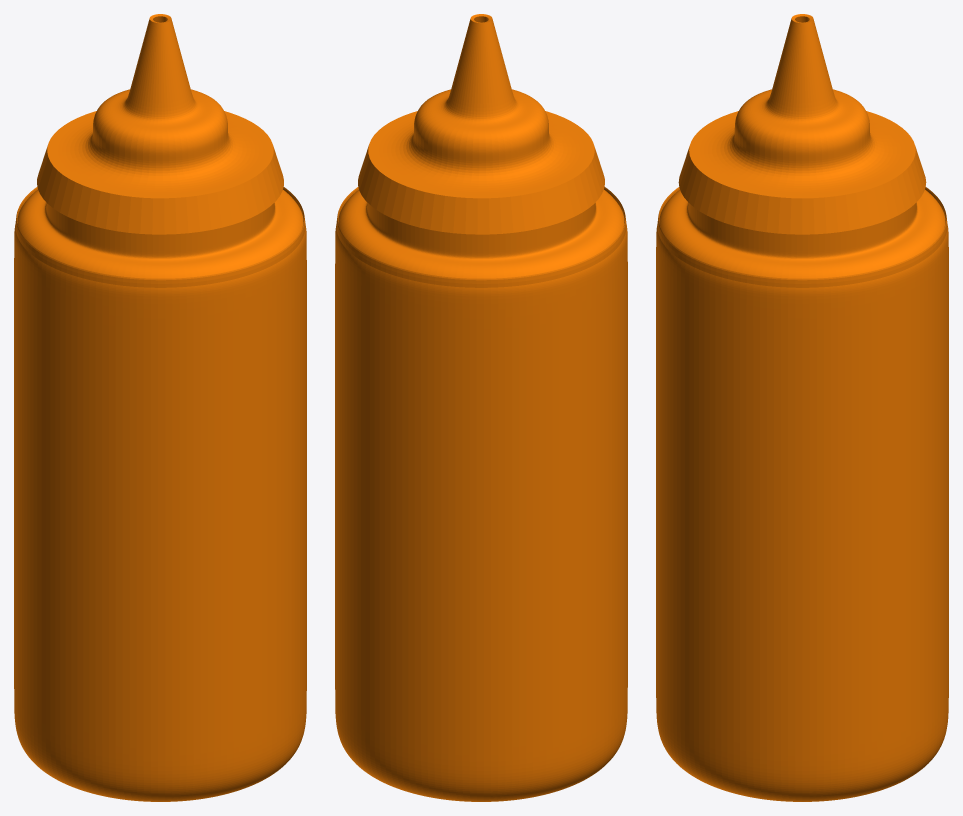
File: ChiliSauce.fbx
3 renders of one model, left to right at view 1: azimuth 30°, elevation 25°; view 2: azimuth 150°, elevation 25°; view 3: azimuth 270°, elevation 25°, orthographic.
Visible parts, largest first — view 1: ChiliSauce.001, ChiliSauce; view 2: ChiliSauce.001, ChiliSauce; view 3: ChiliSauce.001, ChiliSauce.
Boxes of the visible parts, box(x1,y1,x2,y2) form: ChiliSauce.001: box(14, 186, 306, 801); ChiliSauce: box(37, 14, 283, 234); ChiliSauce.001: box(335, 187, 627, 801); ChiliSauce: box(358, 14, 604, 234); ChiliSauce.001: box(656, 187, 948, 801); ChiliSauce: box(678, 14, 926, 234).
Bounding box in the file's own units: 173 × 480 × 173.
